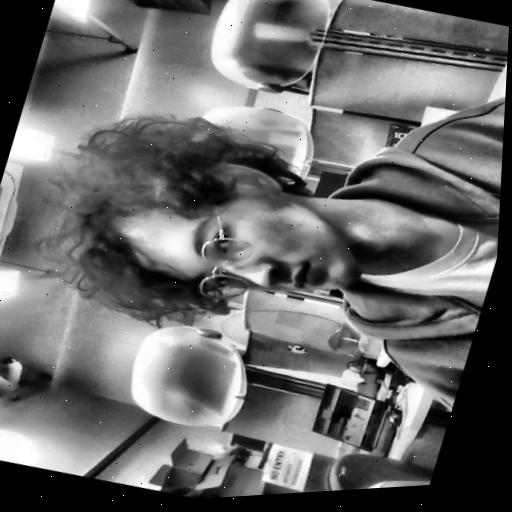Daifuku: (33, 88, 369, 364)
